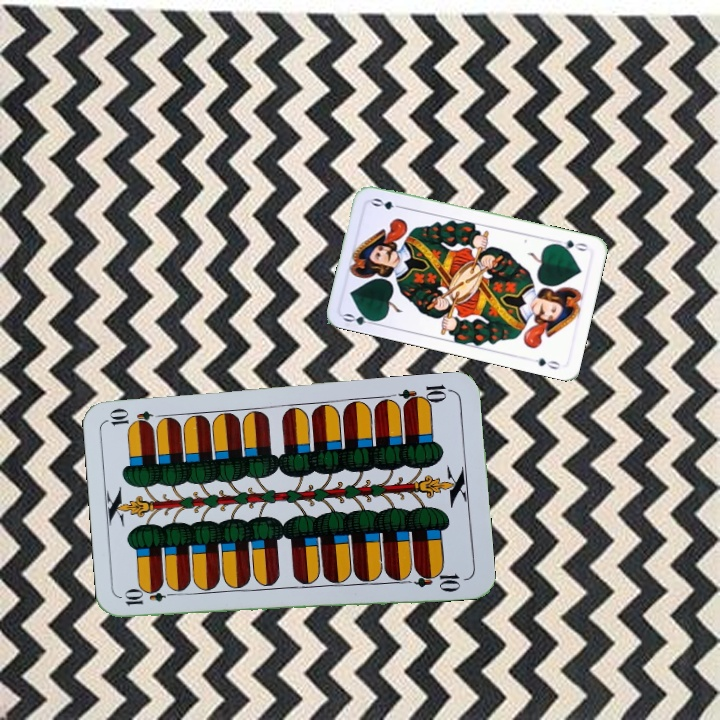E10: (396, 380, 455, 410), (120, 586, 180, 608)
GO: (340, 308, 381, 328), (551, 236, 592, 254)
